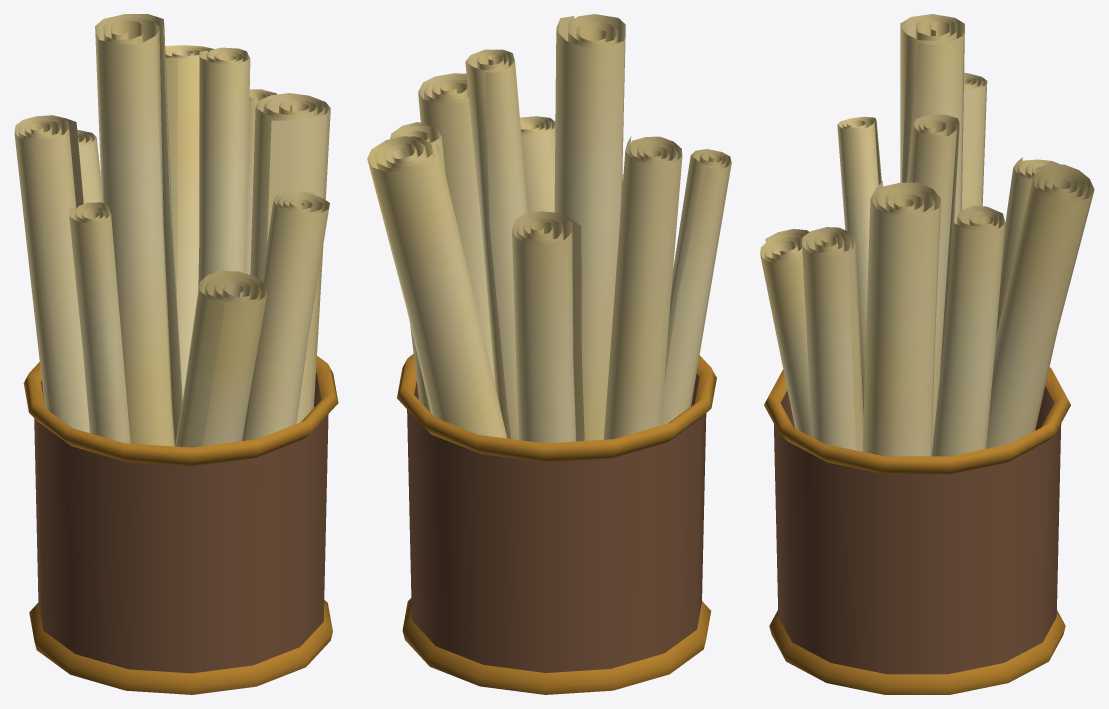
The model's file is 117_paper_rolls_container.glb.
The picture shows the model from 3 angles, left to right: view 1: azimuth 30°, elevation 25°; view 2: azimuth 150°, elevation 25°; view 3: azimuth 270°, elevation 25°; orthographic projection. The views are drawn at different scales.
Visible parts, largest first — view 1: container, 003ext.001, 001ext.004, 001ext.003, 003ext.003, 002ext.002, 001ext.002, 003ext.004, 002ext.001, 003.001, 001.004, 002.002 (+6 smaller); view 2: container, 002ext.001, 003ext.001, 001ext.004, 003ext.003, 001ext.001, 003ext.004, 001ext.002, 001.001, 001ext.003, 003.001, 002.001 (+5 smaller); view 3: container, 001ext.002, 002ext.001, 003ext.002, 001ext.003, 003ext.001, 002ext.002, 003ext.004, 003ext.003, 001ext.004, 001ext.001, 001.002 (+6 smaller).
Part boxes in pixels (bbox=[...]): container: bbox=[23, 356, 338, 694]; 003ext.001: bbox=[95, 23, 182, 446]; 001ext.004: bbox=[14, 127, 89, 432]; 001ext.003: bbox=[242, 201, 329, 440]; 003ext.003: bbox=[198, 54, 250, 288]; 002ext.002: bbox=[175, 284, 266, 447]; 001ext.002: bbox=[250, 105, 330, 423]; 003ext.004: bbox=[69, 212, 130, 443]; 002ext.001: bbox=[165, 53, 199, 399]; 003.001: bbox=[95, 14, 182, 445]; 001.004: bbox=[14, 115, 83, 208]; 002.002: bbox=[199, 270, 266, 299]; container: bbox=[397, 354, 716, 694]; 002ext.001: bbox=[367, 146, 507, 438]; 003ext.001: bbox=[554, 27, 625, 440]; 001ext.004: bbox=[603, 147, 682, 439]; 003ext.003: bbox=[465, 57, 527, 439]; 001ext.001: bbox=[512, 226, 576, 443]; 003ext.004: bbox=[661, 155, 731, 425]; 001ext.002: bbox=[418, 88, 495, 385]; 001.001: bbox=[512, 211, 584, 441]; 001ext.003: bbox=[521, 122, 555, 213]; 003.001: bbox=[556, 14, 625, 196]; 002.001: bbox=[367, 136, 439, 168]; container: bbox=[764, 367, 1070, 694]; 001ext.002: bbox=[862, 194, 940, 456]; 002ext.001: bbox=[986, 177, 1094, 448]; 003ext.002: bbox=[931, 217, 1005, 456]; 001ext.003: bbox=[802, 240, 863, 451]; 003ext.001: bbox=[900, 27, 964, 224]; 002ext.002: bbox=[760, 246, 811, 436]; 003ext.004: bbox=[837, 122, 878, 414]; 003ext.003: bbox=[908, 125, 957, 451]; 001ext.004: bbox=[962, 81, 987, 209]; 001ext.001: bbox=[996, 166, 1034, 336]; 001.002: bbox=[870, 181, 940, 211].
Size of the model in its own units: 0.7195 by 1.5 by 0.7705.
Materials: 3 (1 with a texture image).
